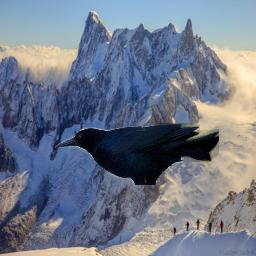Crow: (55, 123, 219, 185)
